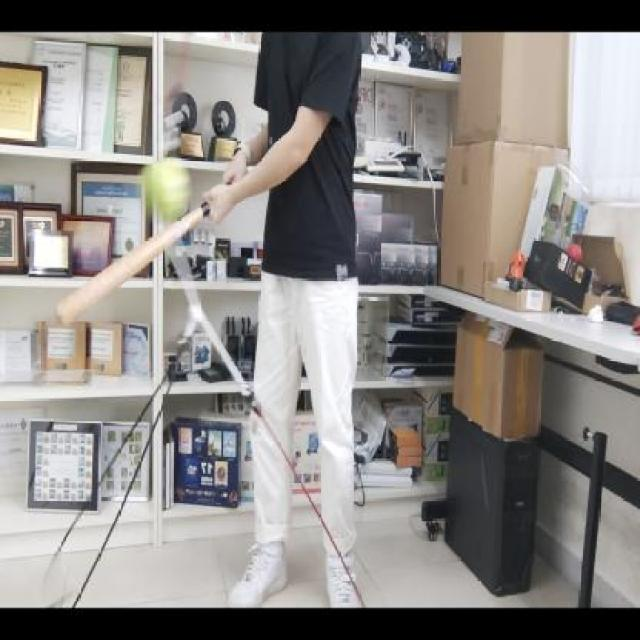baseball: (139, 160, 193, 222)
